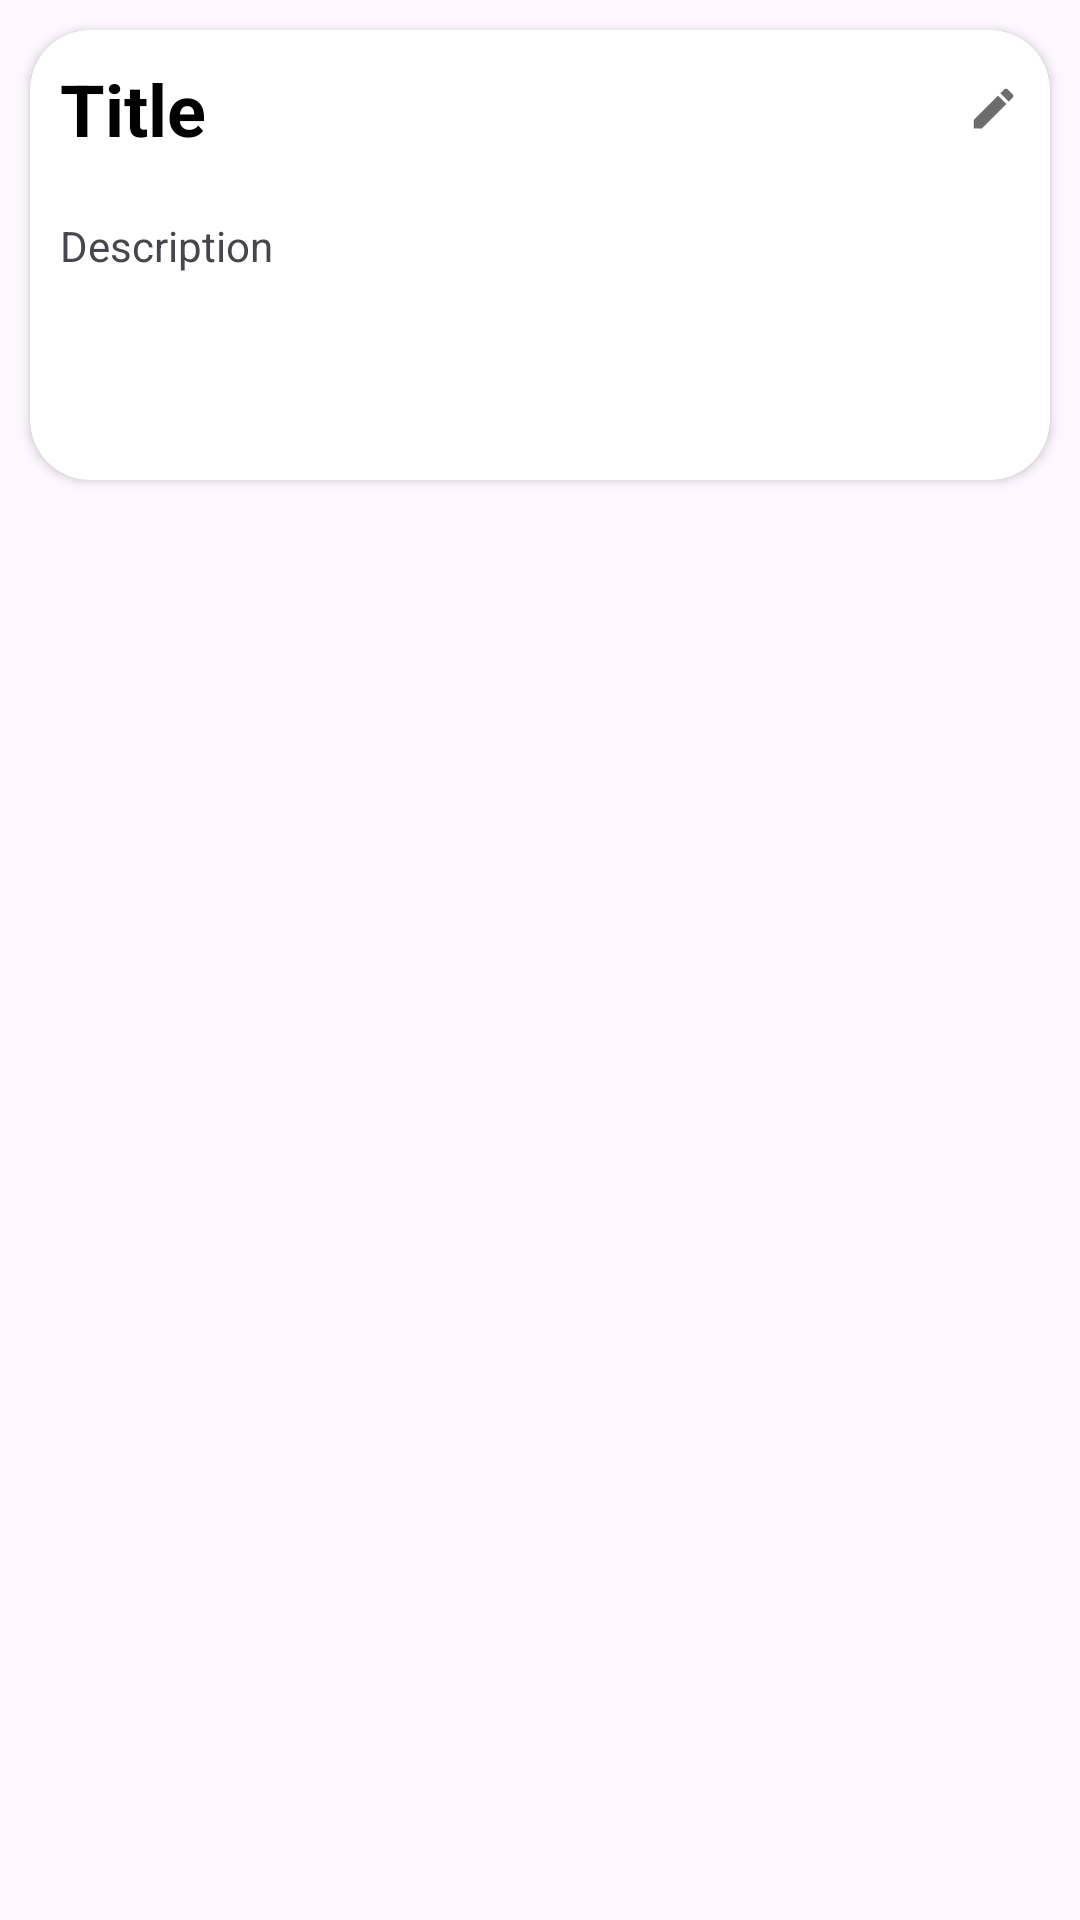

Named icons in this screenshot (1080px x 1920px) and their bounding boxes, (x1, y1, x2, y2):
edit: (973, 88, 1014, 129)
